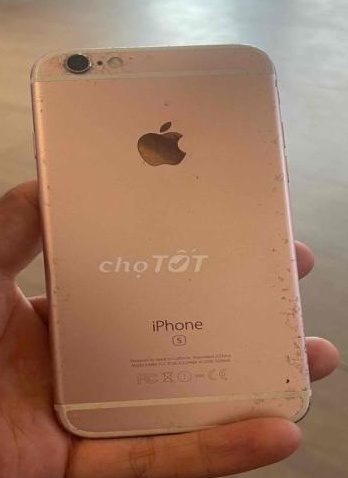scratch: (256, 118, 322, 418), (29, 241, 75, 366), (23, 39, 159, 78)
